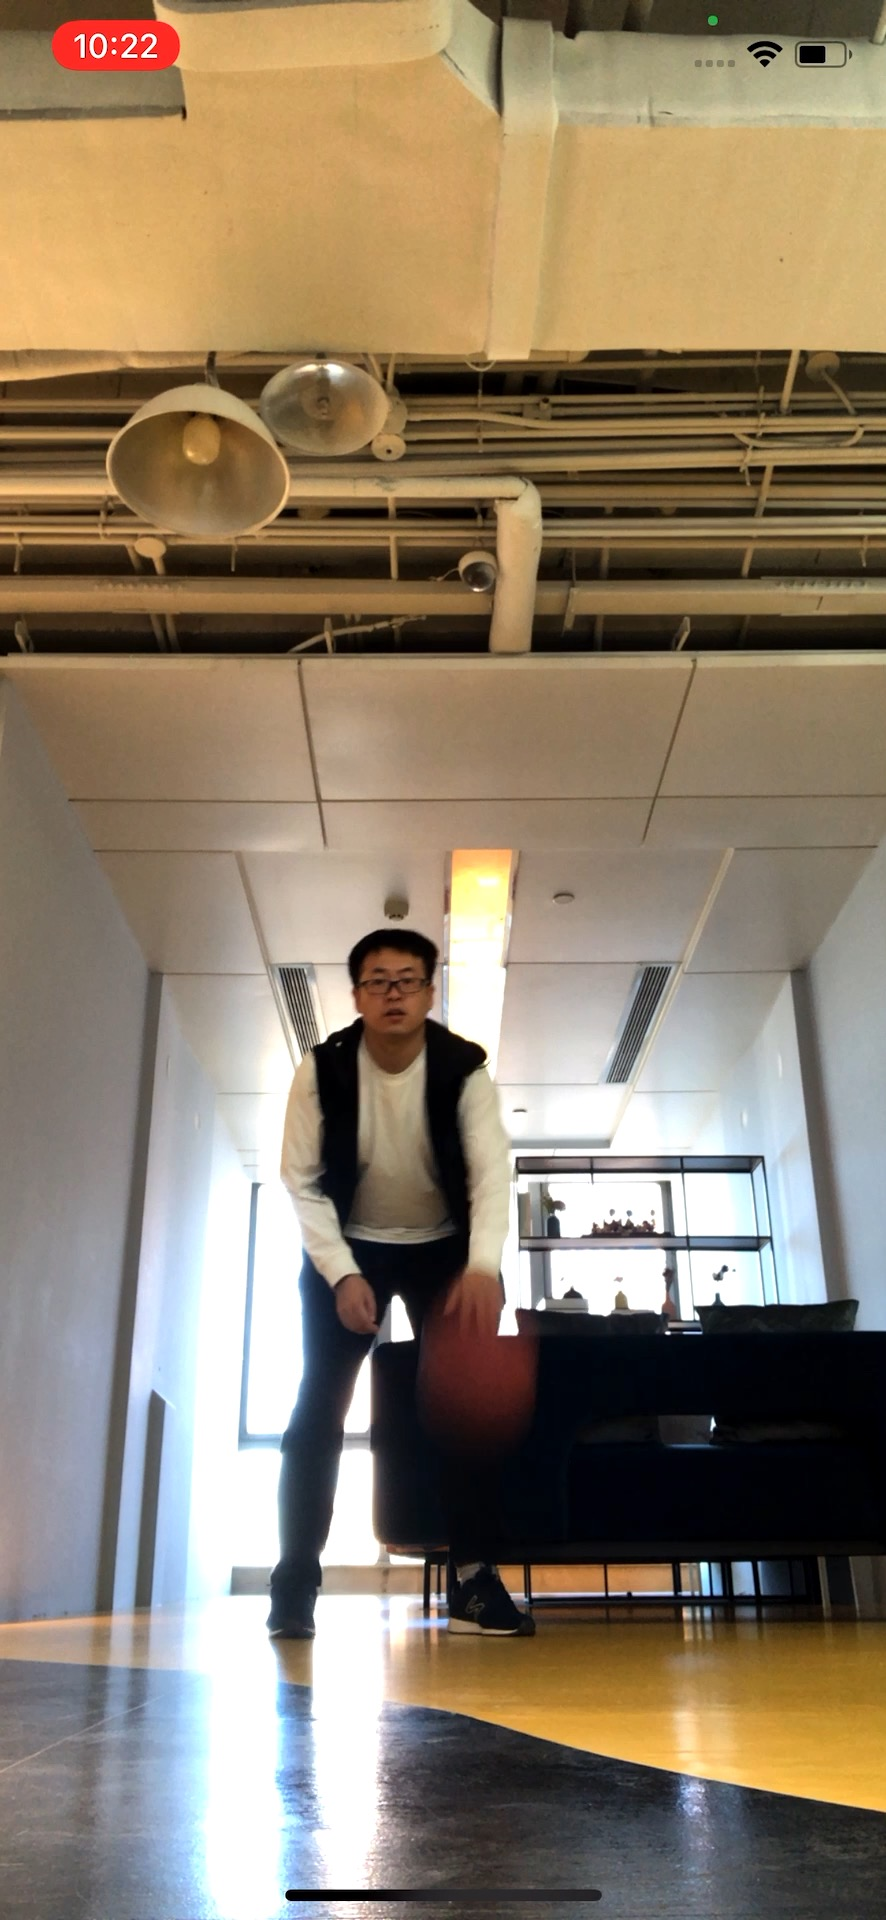ball: (421, 1321, 537, 1425)
